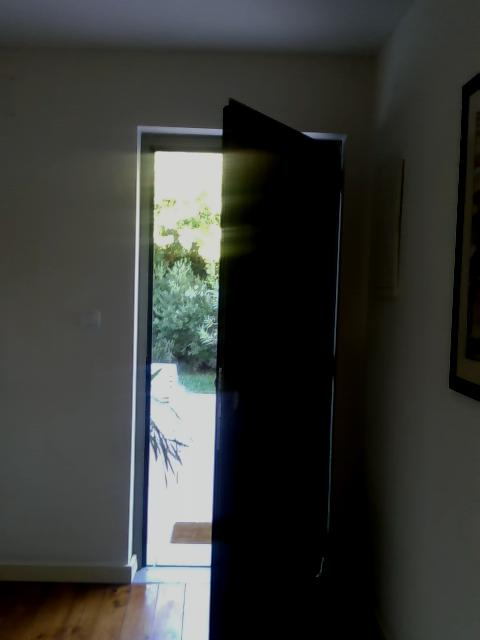semi_door: (129, 96, 343, 639)
